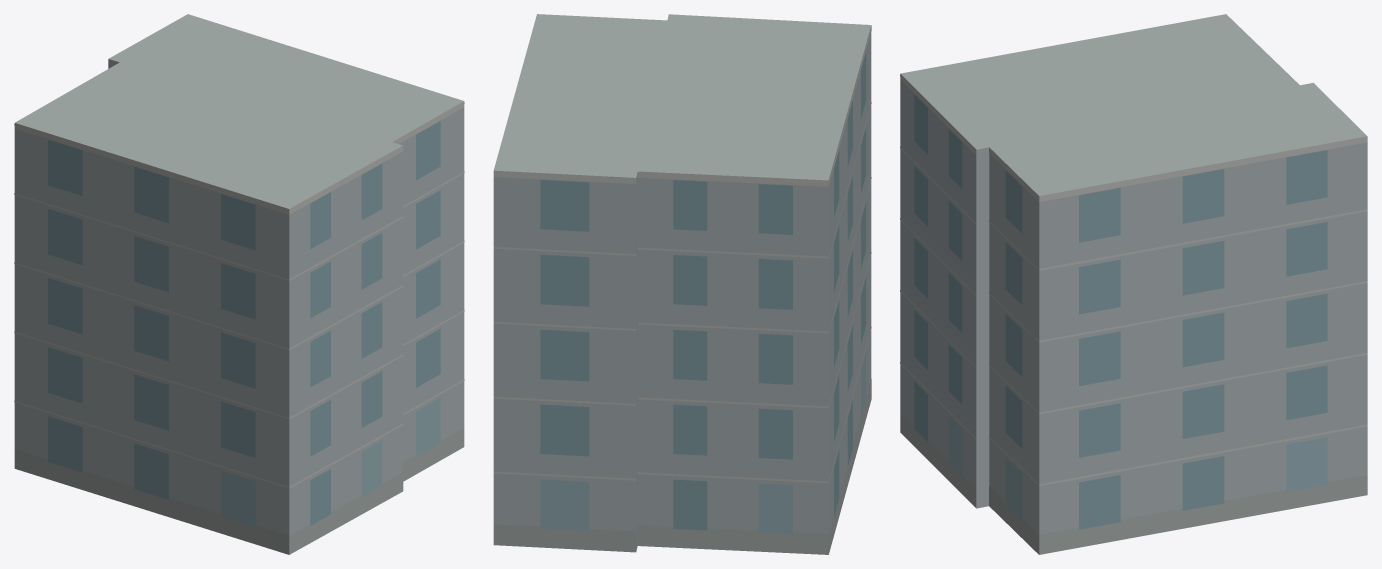
Rendered from survey-upis-32980792.glb.
3 views of the same model, side by side, from view 1: azimuth 30°, elevation 25°; view 2: azimuth 150°, elevation 25°; view 3: azimuth 270°, elevation 25° (orthographic). The views are drawn at different scales.
Parts seen in each view (by area): view 1: survey-upis-32980792.tmp; view 2: survey-upis-32980792.tmp; view 3: survey-upis-32980792.tmp.
Boxes of the visible parts, left/top/right/bottom form: survey-upis-32980792.tmp: left=14, top=14, right=464, bottom=554; survey-upis-32980792.tmp: left=493, top=14, right=871, bottom=554; survey-upis-32980792.tmp: left=900, top=14, right=1367, bottom=554.
Size of the model in its own units: 15.74 by 14.45 by 17.07.
